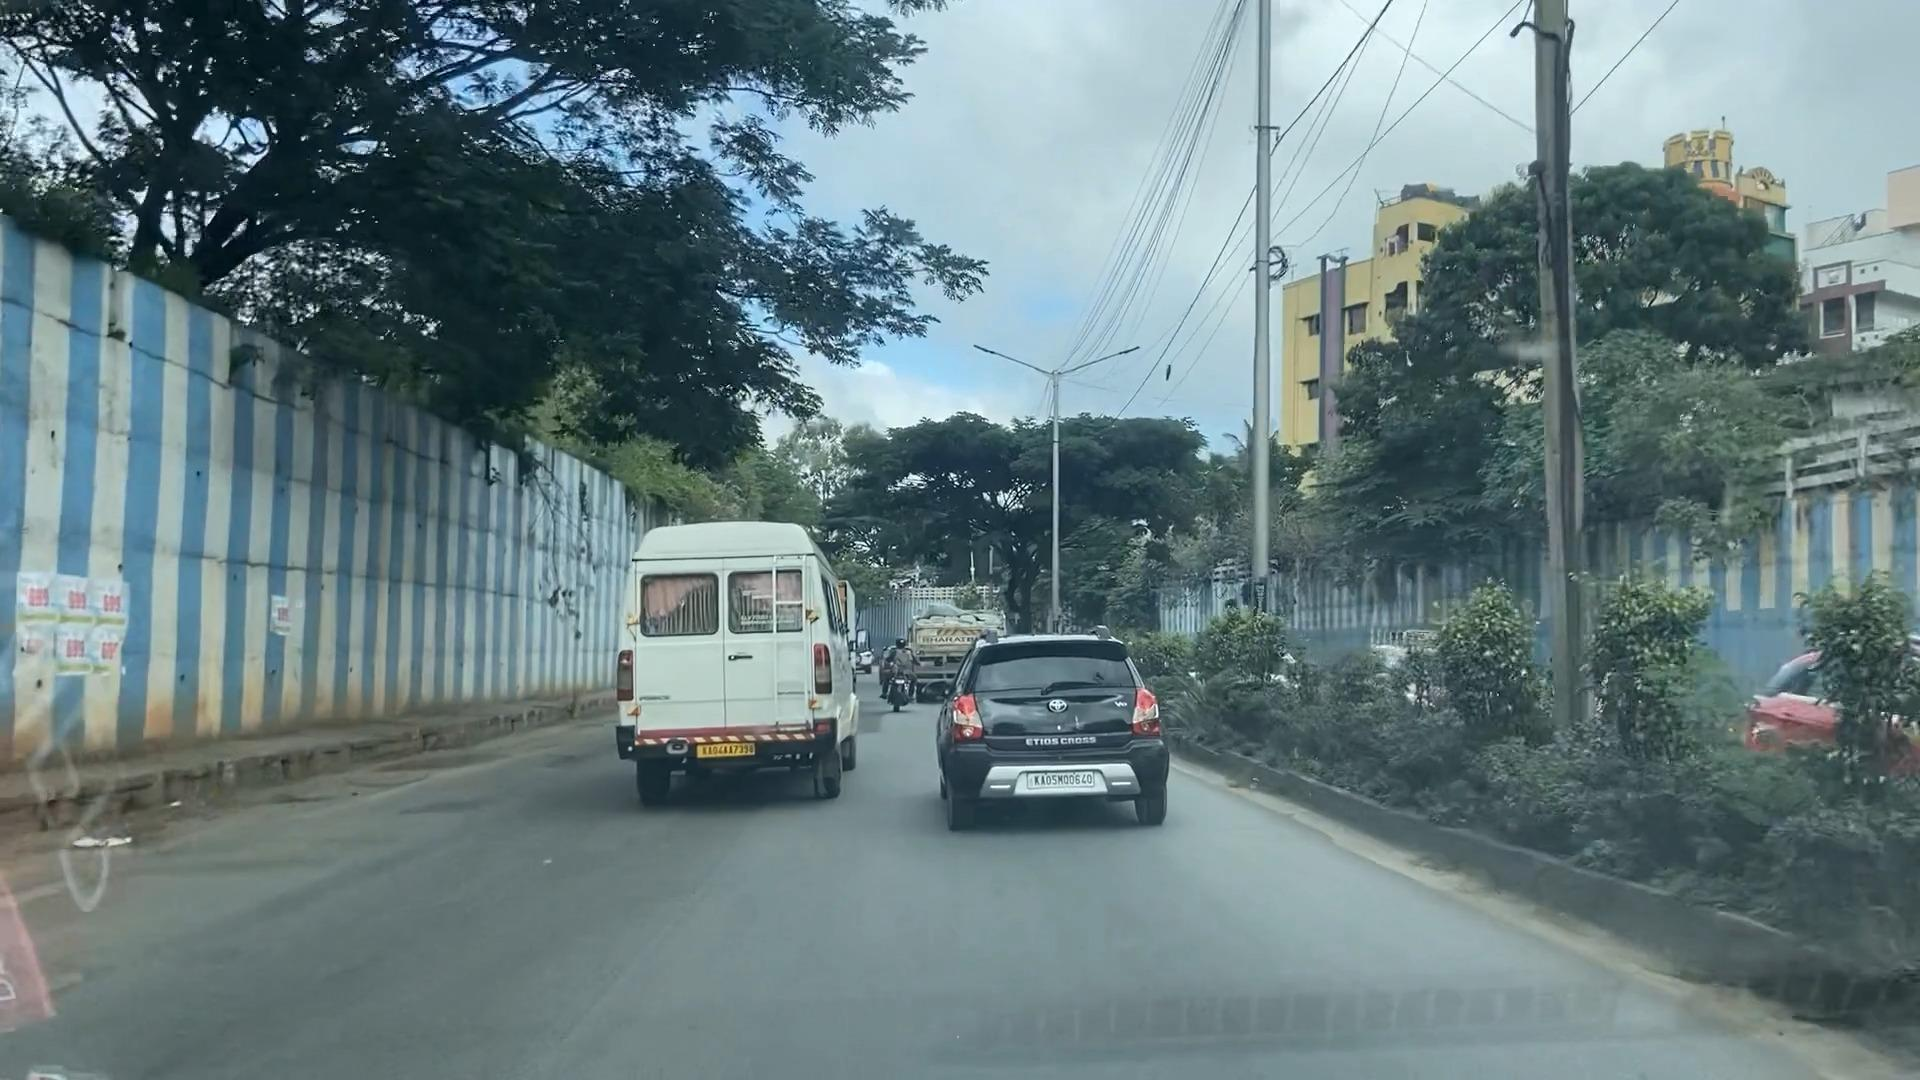HMV: (625, 529, 860, 790)
LMV: (942, 649, 1155, 820)
